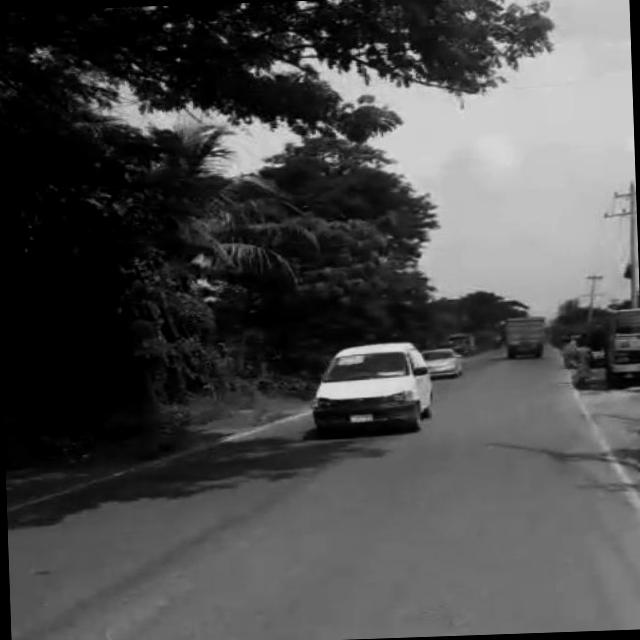car: (421, 340, 466, 374)
truck: (312, 336, 439, 433), (601, 307, 640, 384), (506, 312, 551, 358)
